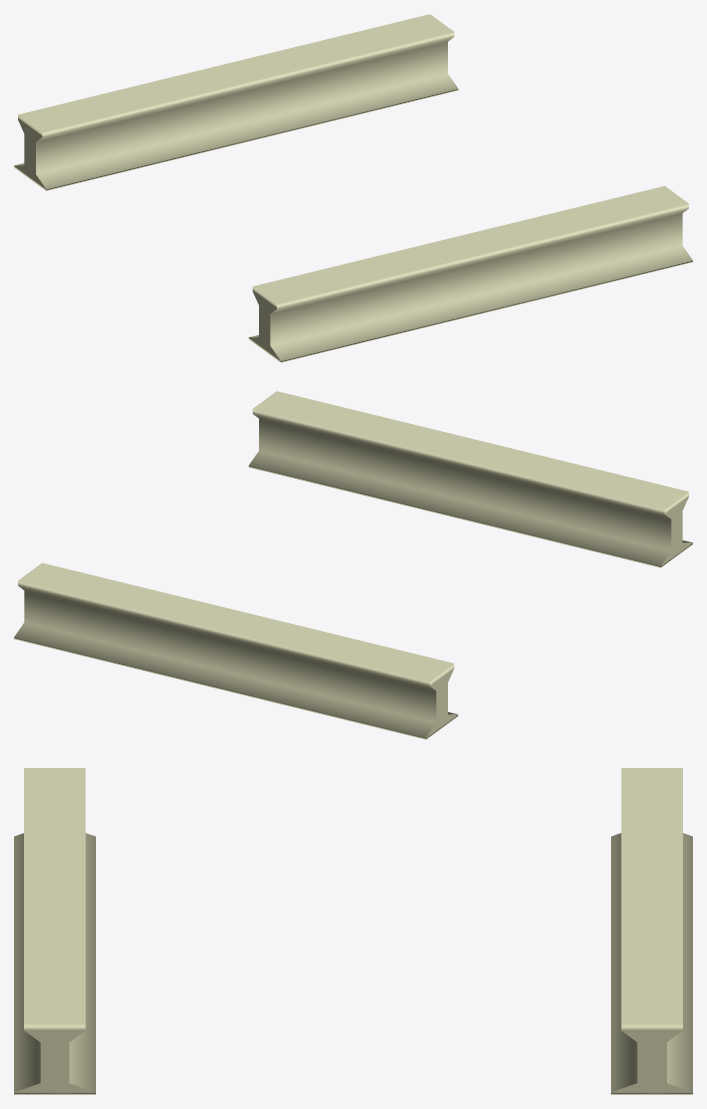
Rendered from SM_Rail.fbx.
3 renders of one model, top to bottom at view 1: azimuth 30°, elevation 25°; view 2: azimuth 150°, elevation 25°; view 3: azimuth 270°, elevation 25°, orthographic. The views are drawn at different scales.
Visible parts, largest first — view 1: SM_rail_track; view 2: SM_rail_track; view 3: SM_rail_track.
Part boxes in pixels (x1=…): SM_rail_track: x1=14, y1=14, x2=692, y2=362; SM_rail_track: x1=14, y1=391, x2=692, y2=739; SM_rail_track: x1=14, y1=768, x2=692, y2=1094.
Size of the model in its own units: 1.11 by 0.1442 by 1.25.
